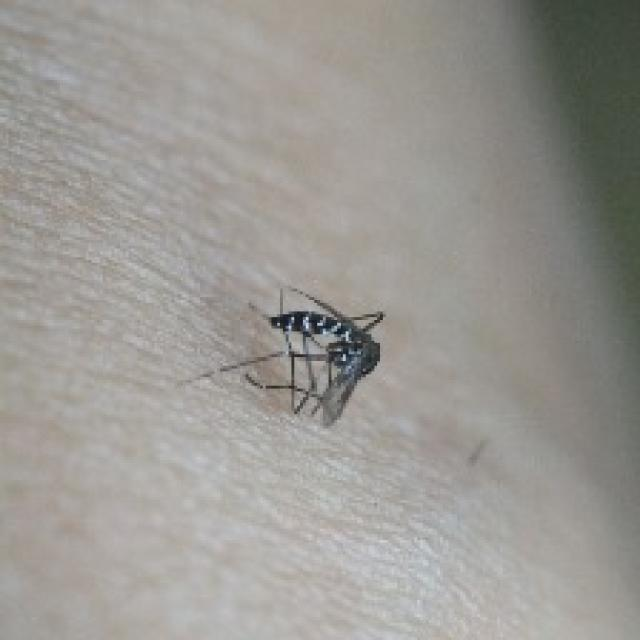aedes: (206, 283, 386, 426)
